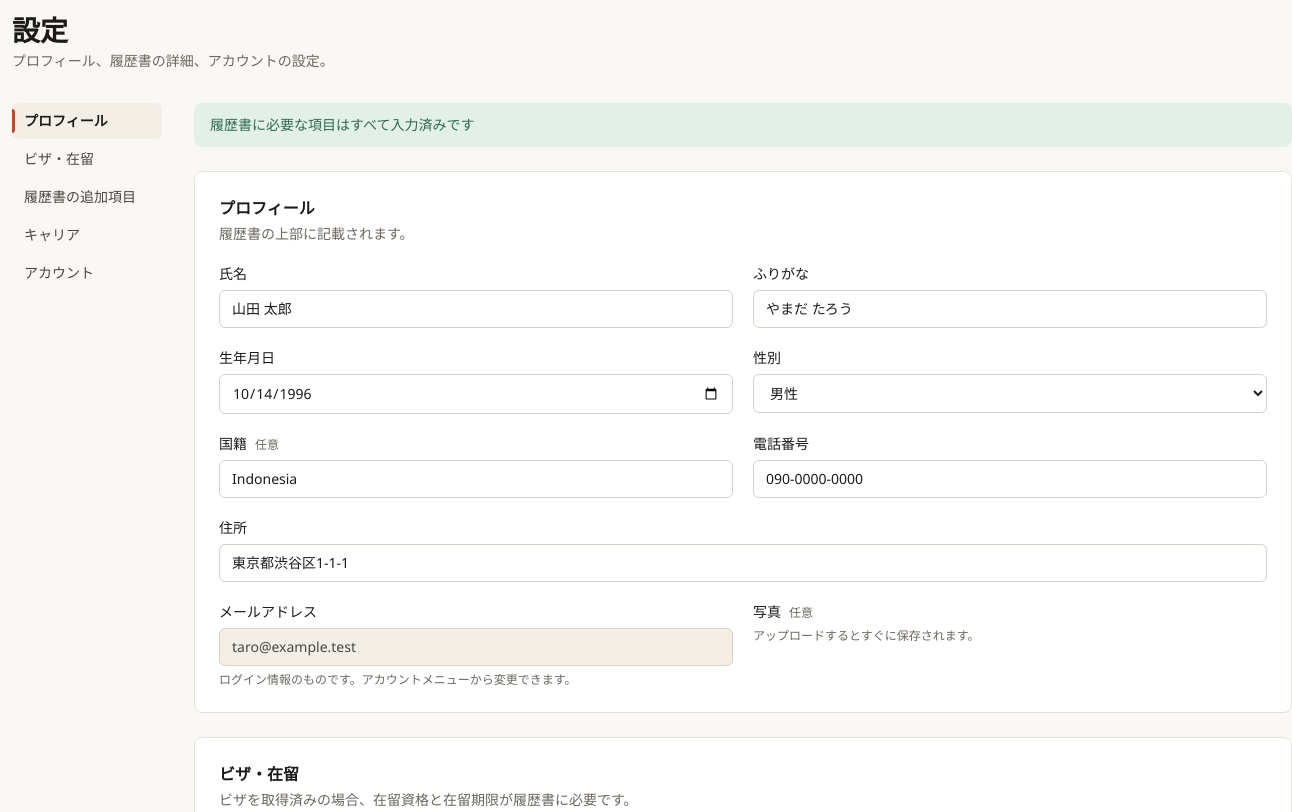
Scenario: settings page, the save bar › keeps the edits and says why when a save fails
Replace the text in the field labelled "ふりがな" with "すずき はなこ" at [1010, 309], box [753,290,1267,328]
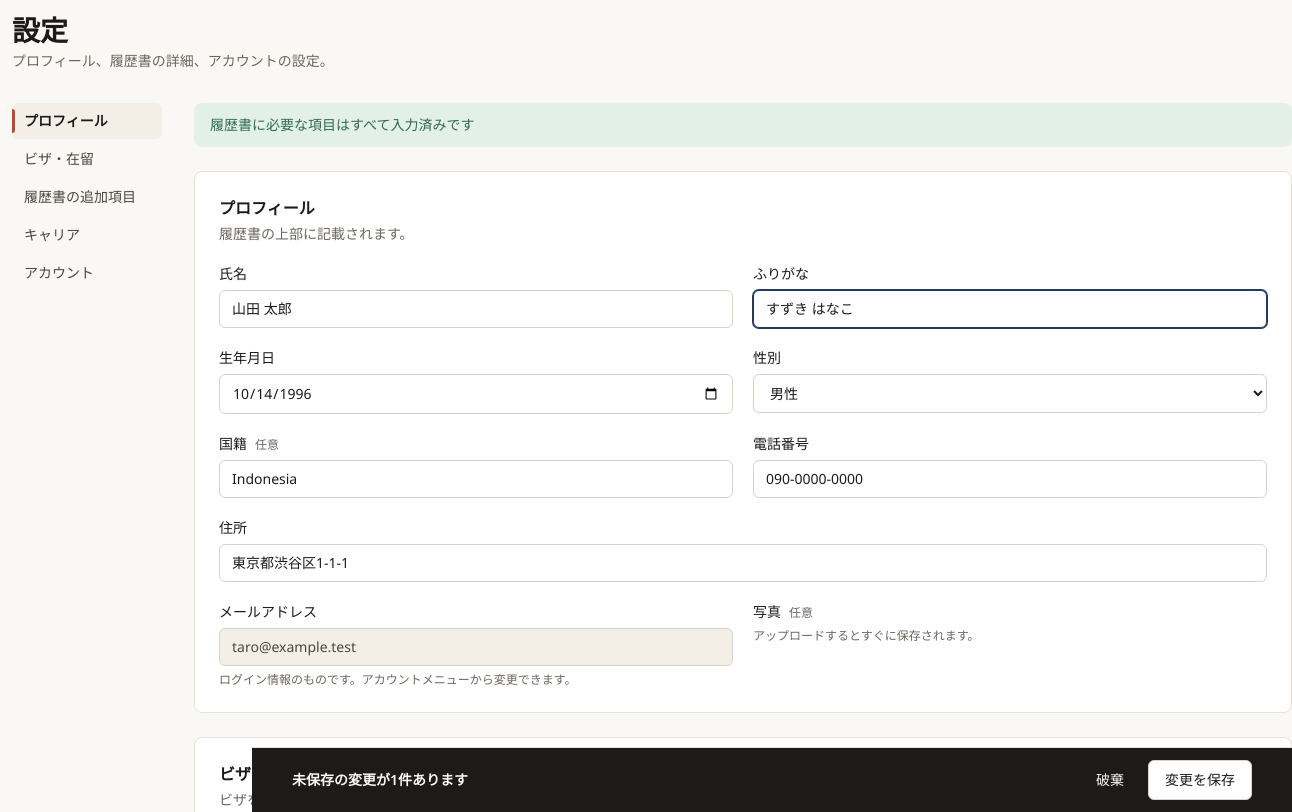
Click the button "変更を保存".
click(1200, 780)  # box [1148,760,1252,800]
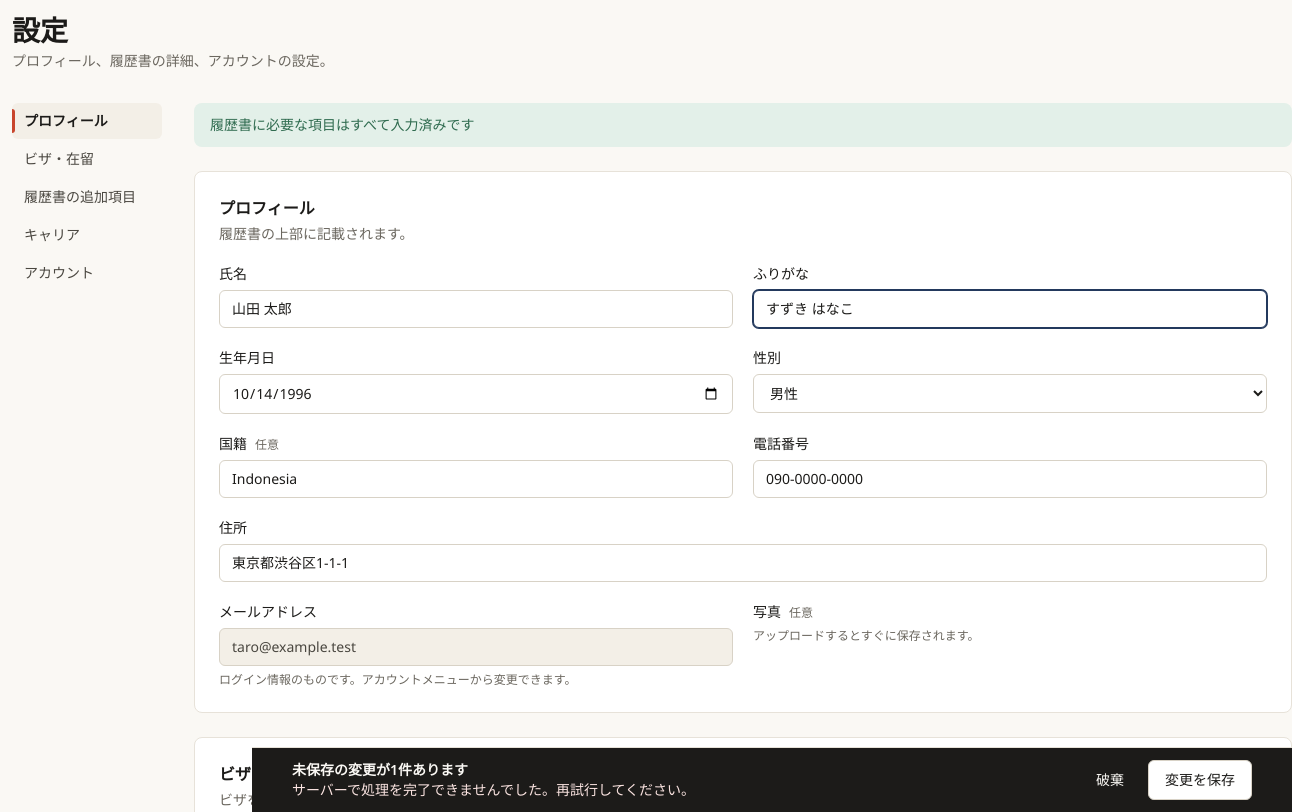
expect the text "未保存の変更が1件あります" is shown: met, box [292,760,468,779]
expect the message reads "サーバーで処理を完了できませんでした。再試行してください。": met, box [292,780,695,799]
